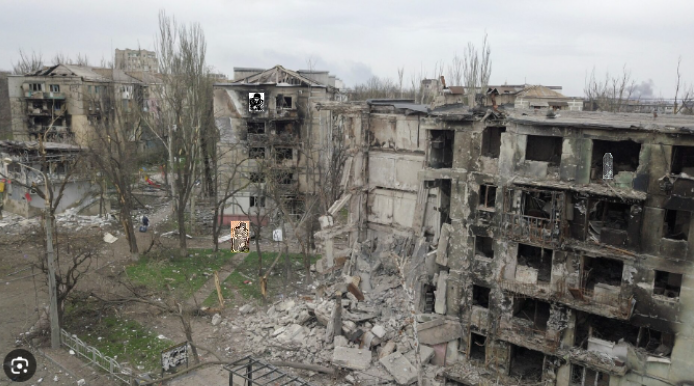HVT1: (234, 222, 248, 252), (249, 93, 264, 111), (603, 153, 613, 178)
